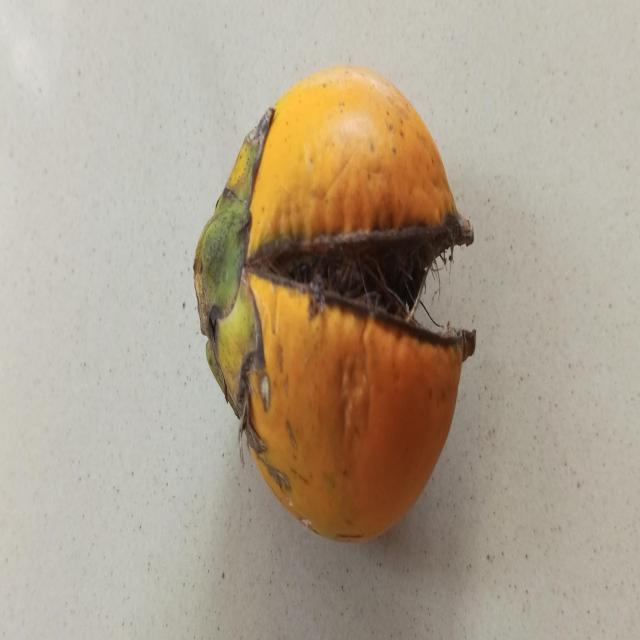damaged: (193, 67, 477, 544)
